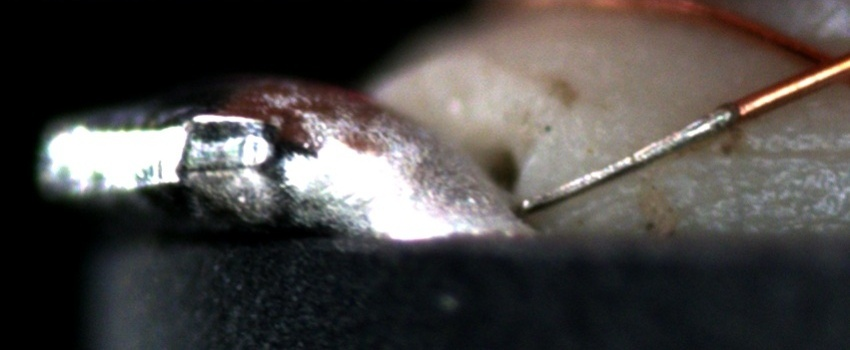CL: (780, 31, 848, 94)
DL: (676, 124, 849, 188)
TS: (521, 103, 741, 211)
